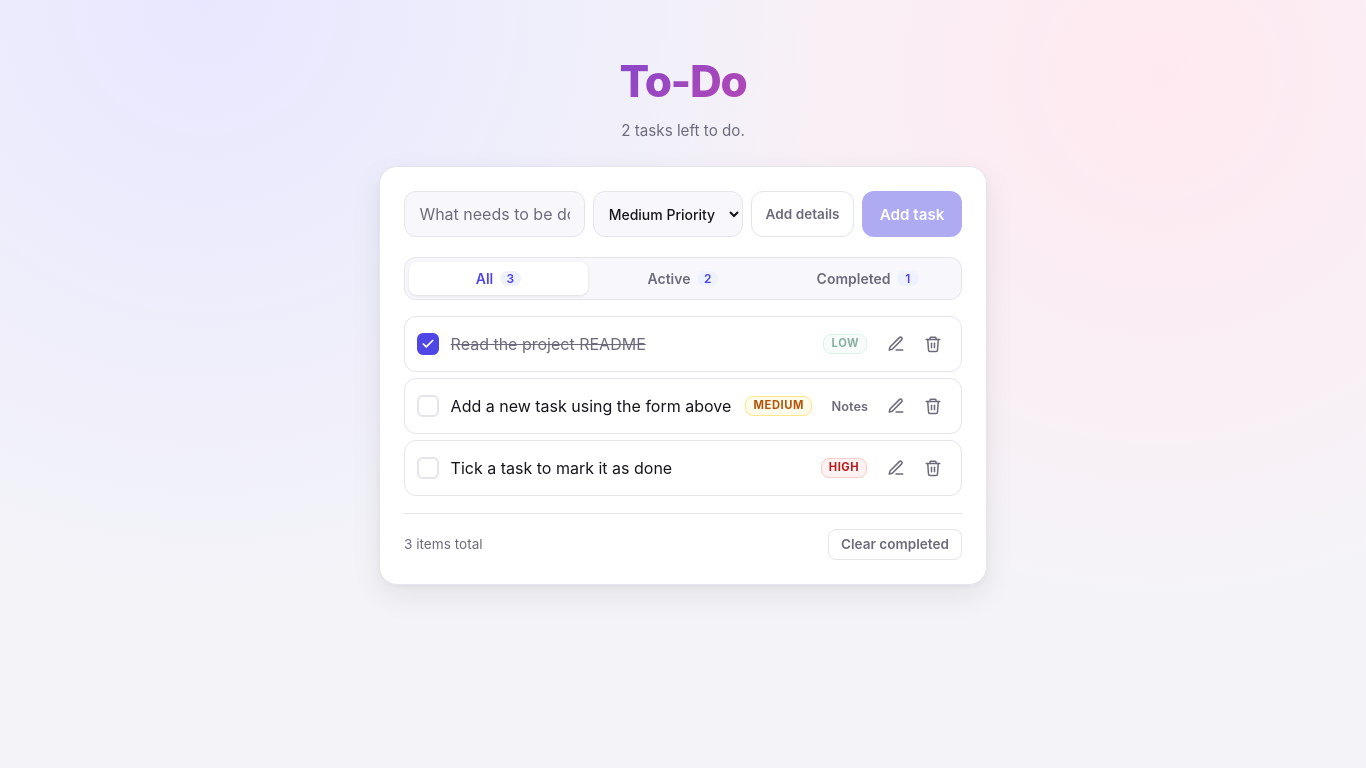
To-do app › adds a new task with selected high priority
Type "Critical bug fix" into the field with placeholder "What needs to be done?".
click(495, 214); type("Critical bug fix")  # box [404, 191, 585, 237]
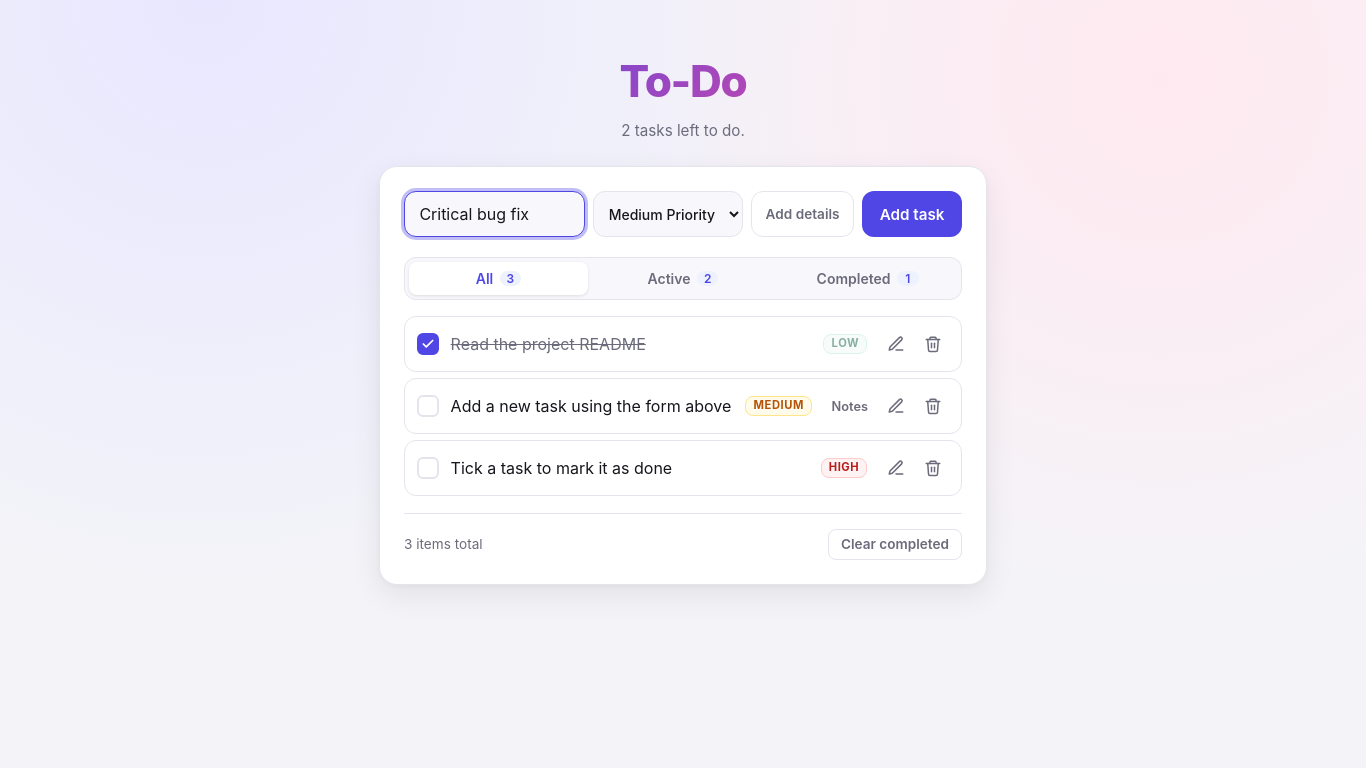
Select "High Priority" in the dropdown named "Priority" at [668, 214], box [593, 191, 743, 237]
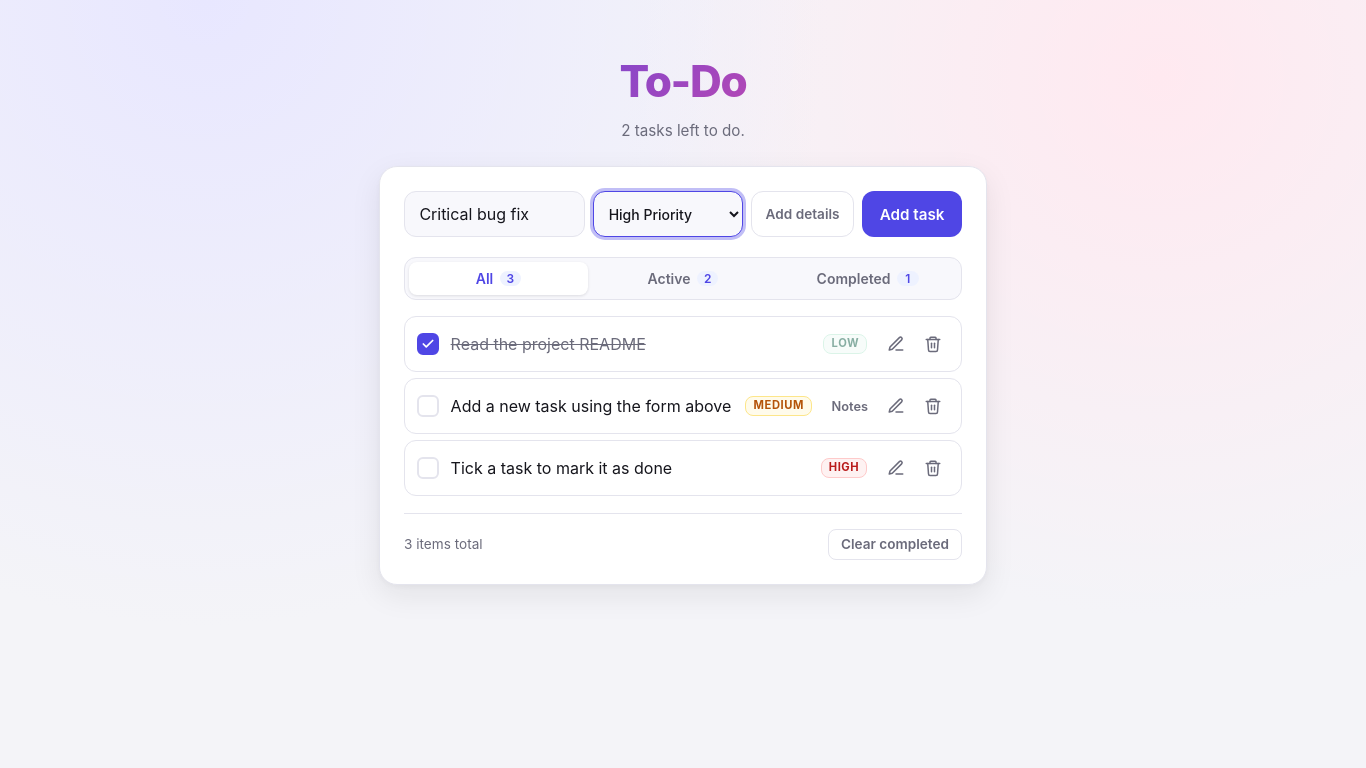
Click the button "Add task".
click(912, 214)  # box [862, 191, 962, 237]
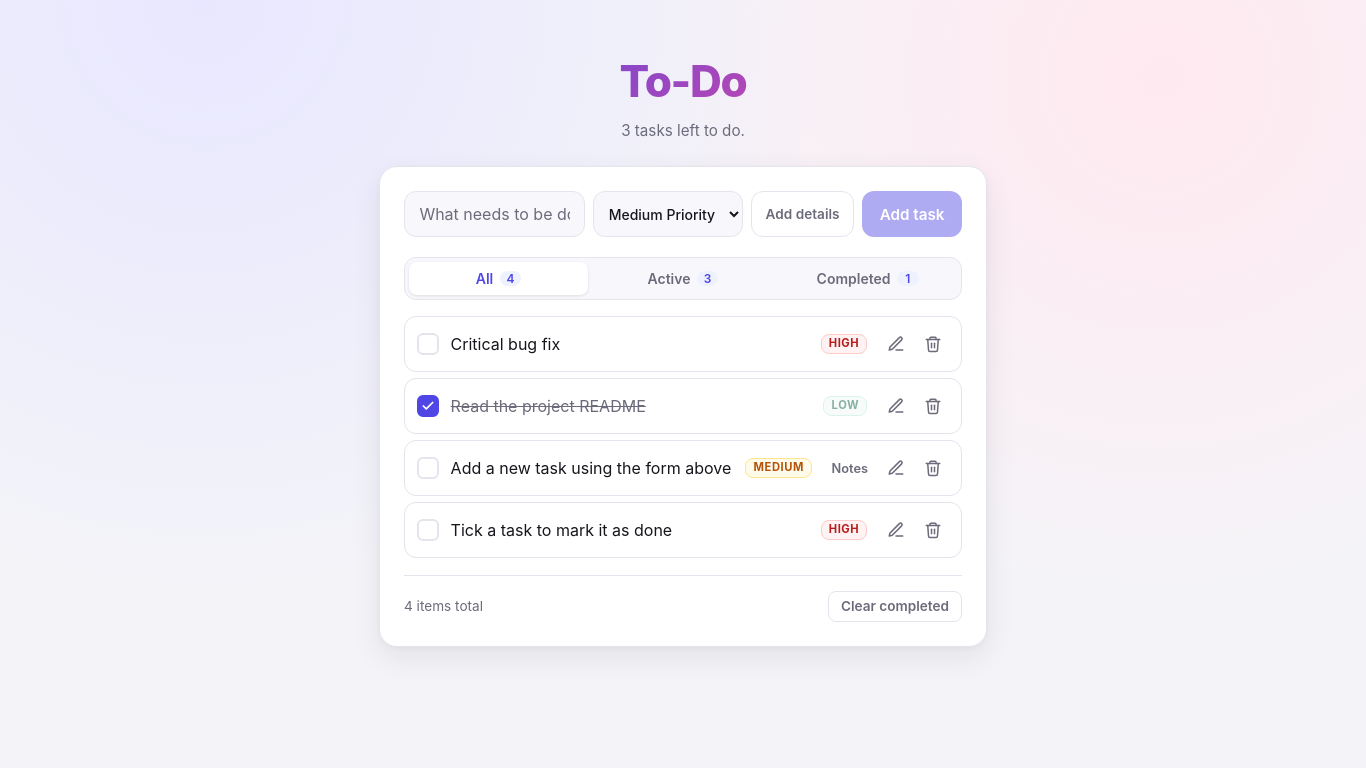
Check: the text "high" in the row of "Critical bug fix" is shown, box [829, 336, 859, 350]
